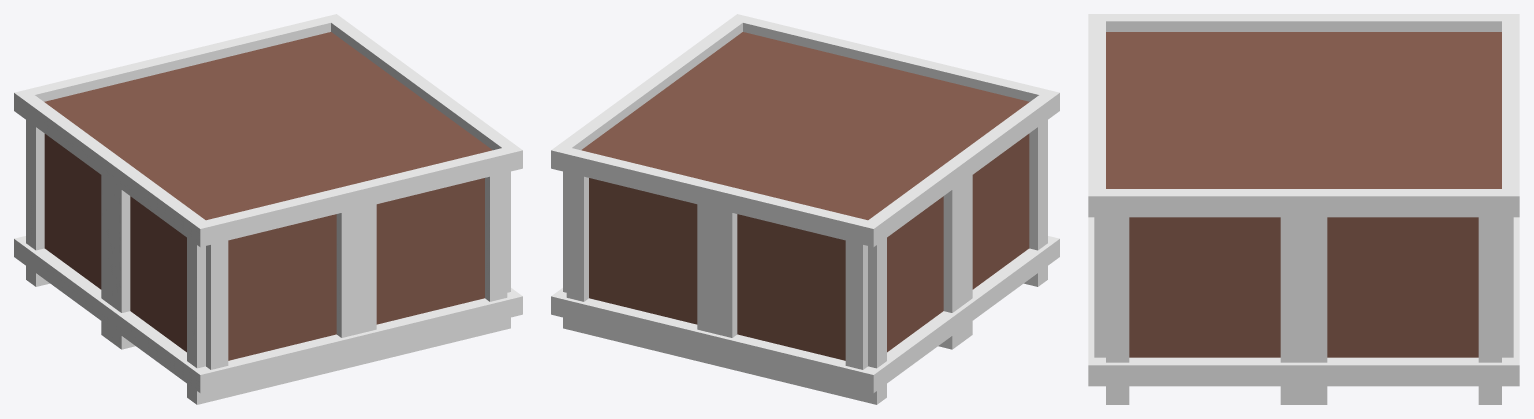
File: crate_short.glb
3 views of the same model, side by side, from view 1: azimuth 30°, elevation 25°; view 2: azimuth 150°, elevation 25°; view 3: azimuth 270°, elevation 25° (orthographic). The views are drawn at different scales.
Visible parts, largest first — view 1: CrateShort-occ.001; view 2: CrateShort-occ.001; view 3: CrateShort-occ.001.
Boxes of the visible parts, left/top/right/bottom form: CrateShort-occ.001: left=14, top=14, right=522, bottom=404; CrateShort-occ.001: left=551, top=14, right=1059, bottom=404; CrateShort-occ.001: left=1088, top=14, right=1519, bottom=404.
Size of what is drawn, in the model's own units: 2.31 by 1.25 by 2.31.
